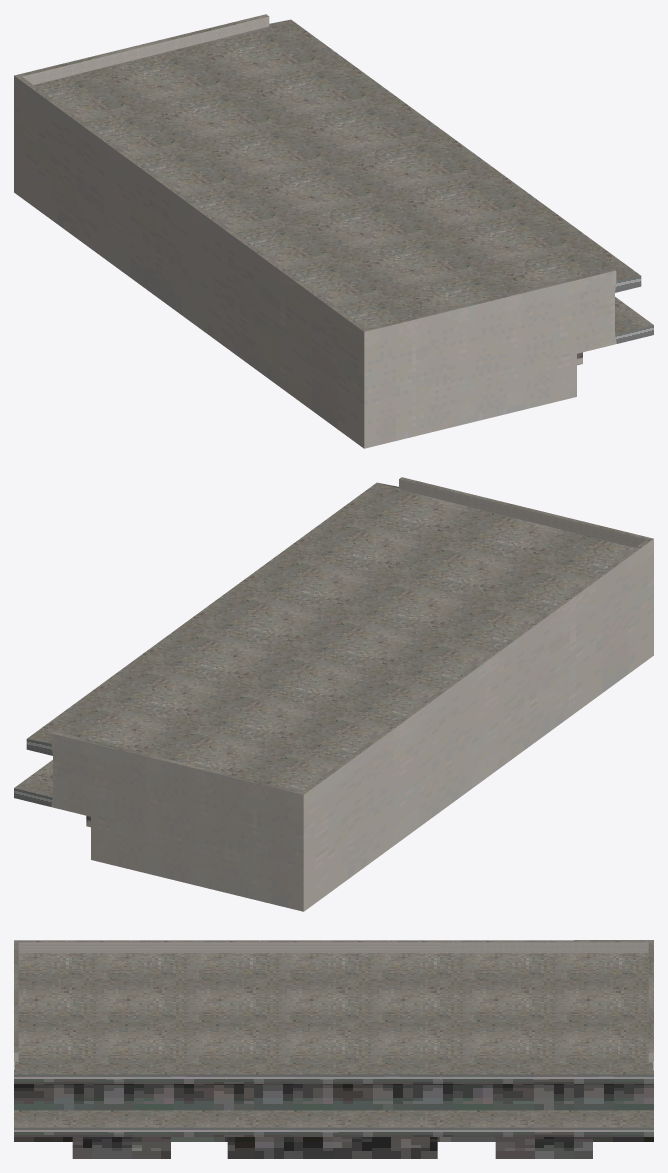
Rendered from lodoffice01_lvs.obj.
3 views of the same model, one above another, from view 1: azimuth 30°, elevation 25°; view 2: azimuth 150°, elevation 25°; view 3: azimuth 270°, elevation 25° (orthographic). The views are drawn at different scales.
Parts seen in each view (by area): view 1: lodoffice01_lvs; view 2: lodoffice01_lvs; view 3: lodoffice01_lvs.
Part boxes in pixels (x1,y1,x2,y2): lodoffice01_lvs: (14,14,653,448); lodoffice01_lvs: (14,477,653,911); lodoffice01_lvs: (14,940,653,1158).
Size of the model in its own units: 28.54 by 11 by 59.73.
Materials: 2 (2 with a texture image).
